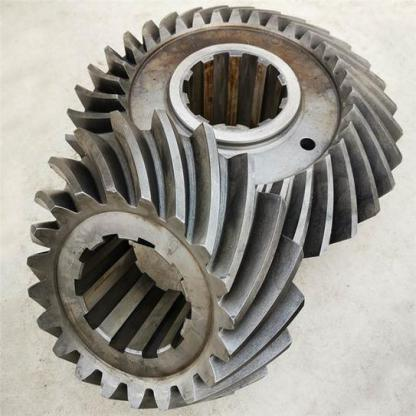FOD: (66, 0, 402, 266), (20, 107, 308, 413)
